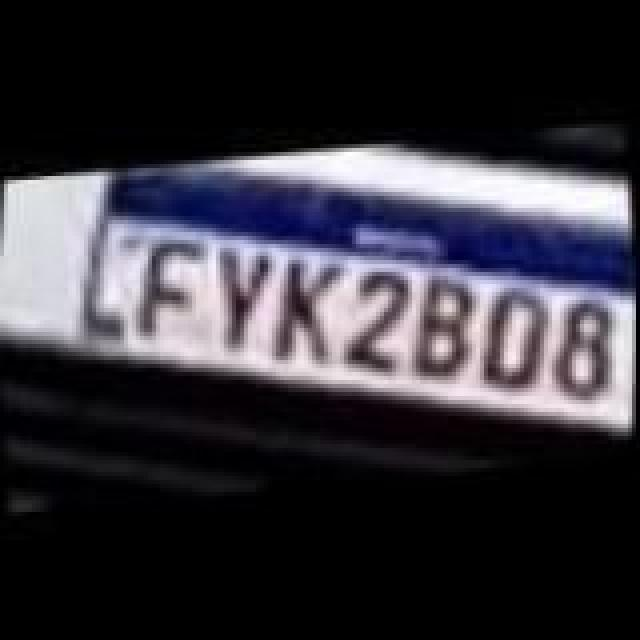2: (338, 262, 422, 378)
8: (544, 290, 628, 410)
B: (400, 270, 488, 390)
D: (472, 278, 560, 398)
F: (128, 224, 220, 344)
K: (268, 250, 348, 370)
Y: (204, 234, 284, 358)
